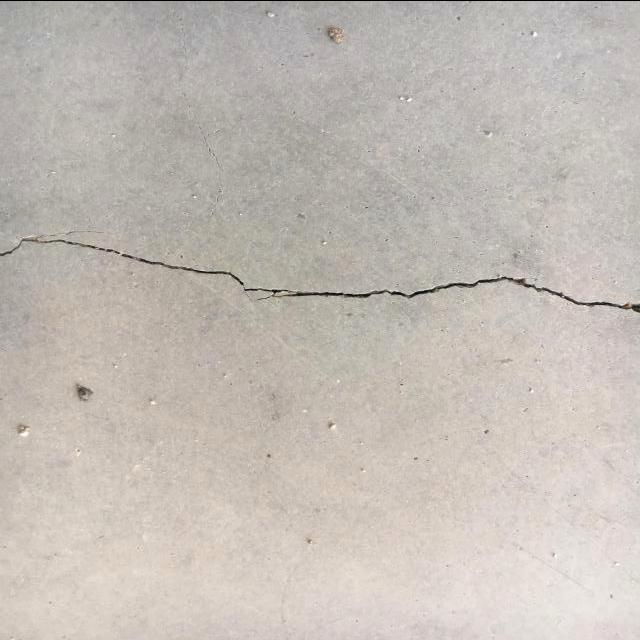SurfaceCrack: (0, 195, 639, 356)
